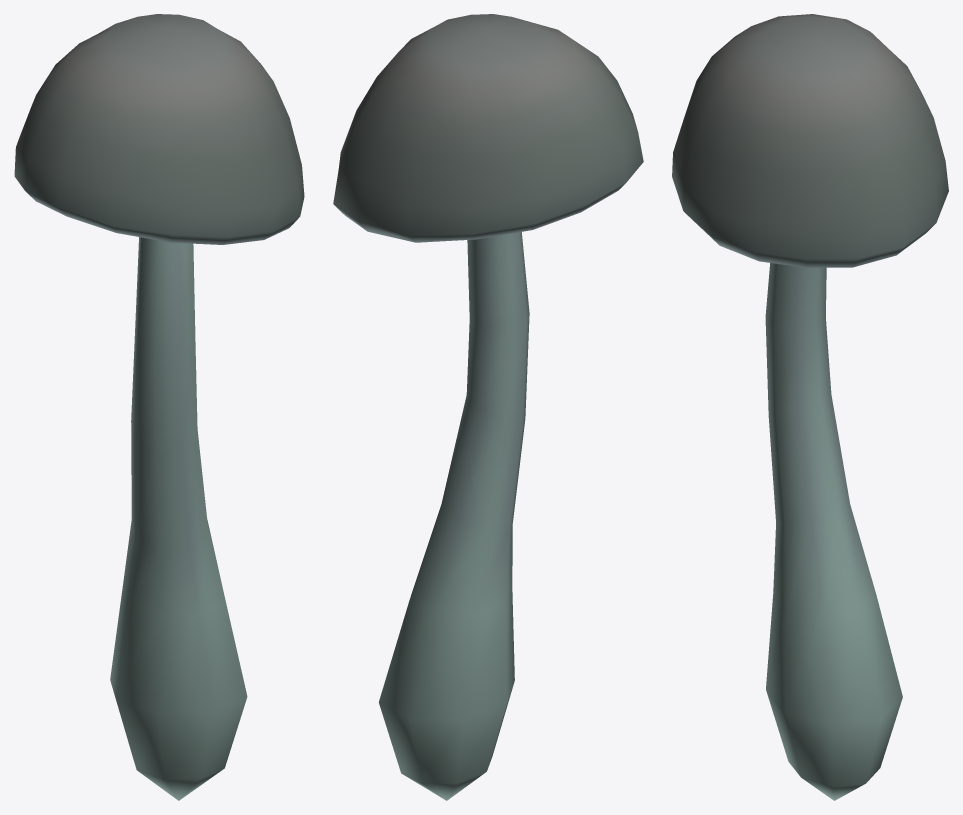
Rendered from plants-mushrooms-pale-blue-mushroom_v3.glb.
The picture shows the model from 3 angles, left to right: view 1: azimuth 30°, elevation 25°; view 2: azimuth 150°, elevation 25°; view 3: azimuth 270°, elevation 25°; orthographic projection. The views are drawn at different scales.
Parts seen in each view (by area): view 1: Pale Blue Mushroom_v3; view 2: Pale Blue Mushroom_v3; view 3: Pale Blue Mushroom_v3.
Part boxes in pixels (x1,y1,x2,y2): Pale Blue Mushroom_v3: (14, 14, 304, 800); Pale Blue Mushroom_v3: (333, 14, 643, 800); Pale Blue Mushroom_v3: (672, 14, 948, 800).
Bounding box in the file's own units: 0.0425 × 0.12 × 0.0399.
